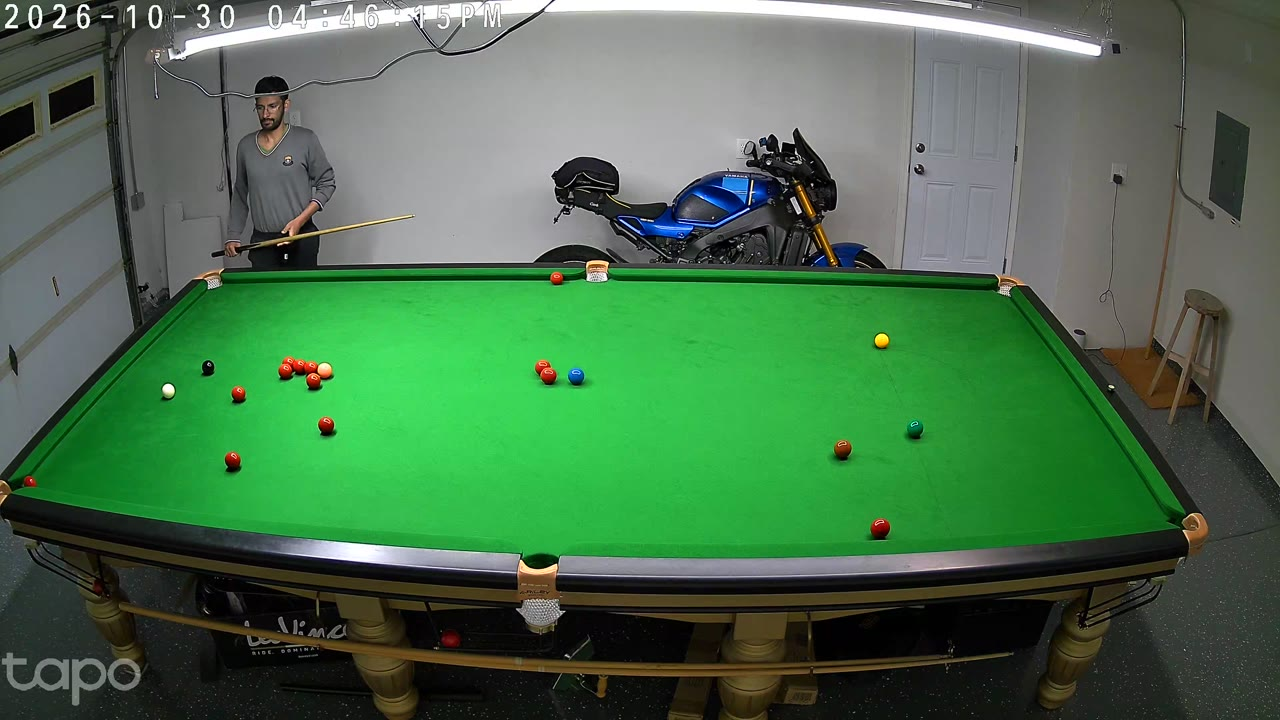black: (202, 358, 215, 378)
blue: (568, 366, 584, 388)
brown: (834, 438, 852, 463)
green: (906, 417, 923, 441)
pink: (318, 362, 331, 382)
red: (869, 515, 891, 546), (225, 449, 241, 474), (319, 415, 334, 437), (232, 385, 246, 405), (539, 360, 552, 381), (23, 474, 36, 494), (279, 362, 291, 382), (542, 366, 554, 386), (307, 371, 319, 391), (283, 356, 295, 376), (535, 360, 546, 379), (305, 360, 316, 379), (551, 271, 562, 288), (295, 358, 305, 376)
white: (162, 382, 175, 402)
yellow: (875, 332, 889, 351)
